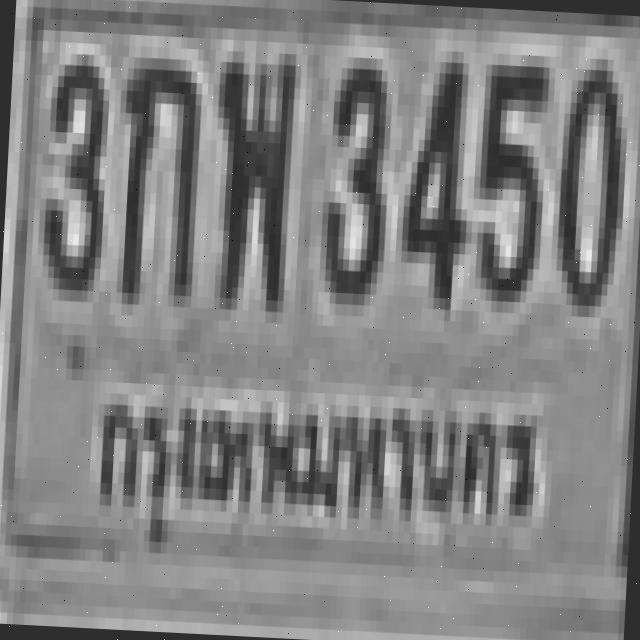0: (550, 52, 626, 302)
10GorGai: (110, 45, 198, 296)
3: (318, 56, 388, 295), (36, 53, 106, 292)
39PhorPan: (205, 44, 294, 296)
4: (397, 49, 467, 299)
5: (468, 48, 544, 298)
Bangkok: (59, 342, 571, 582)
